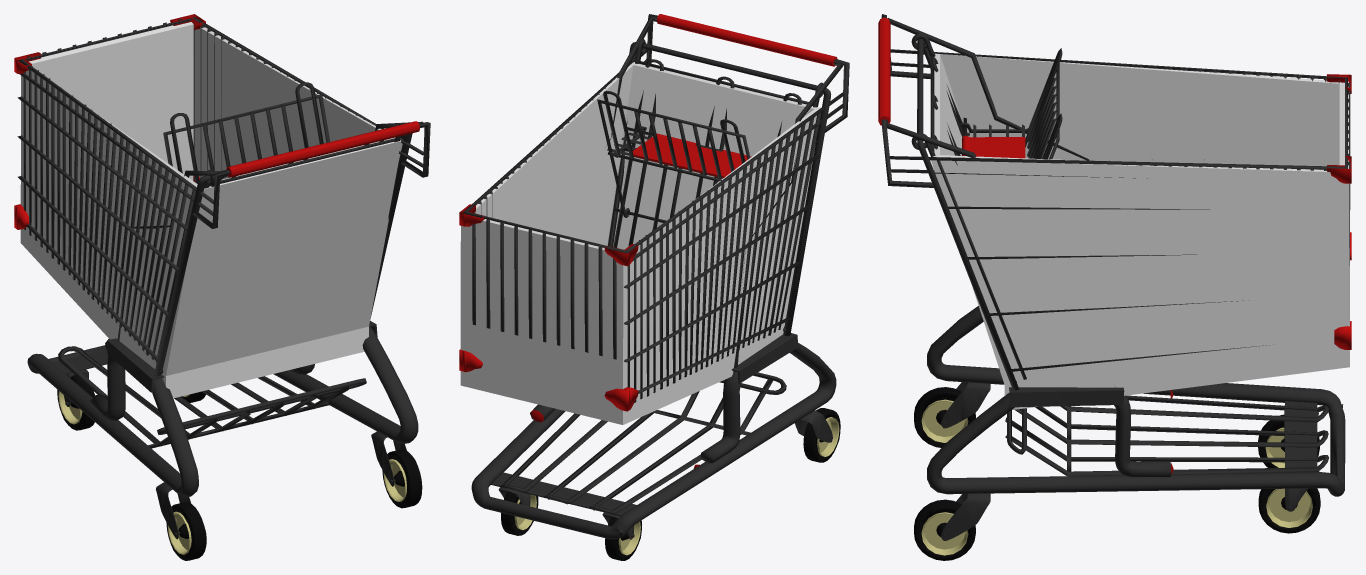
Rendered from wozek_plus_colider.FBX.
The picture shows the model from 3 angles, left to right: view 1: azimuth 30°, elevation 25°; view 2: azimuth 150°, elevation 25°; view 3: azimuth 270°, elevation 25°; orthographic projection. The views are drawn at different scales.
Parts seen in each view (by area): view 1: wozek_colider, cart, seatBack, Handle, Loft01, Loft05, Gate, Box01, Box05, uBumpers, Line01, Line06; view 2: wozek_colider, cart, seatBack, Gate, seat, Handle, lBumpers, Loft01, uBumpers, Box01, Loft04, Loft02; view 3: wozek_colider, cart, seatBack, Handle, Gate, Loft05, Box05, seat, Box01, Line05, Line06, Line01 (+3 smaller).
Boxes of the visible parts, x1,y1,x2,y2 form: wozek_colider: [20, 22, 402, 398]; cart: [17, 17, 430, 497]; seatBack: [163, 82, 330, 183]; Handle: [226, 121, 419, 177]; Loft01: [166, 502, 206, 560]; Loft05: [382, 449, 422, 508]; Gate: [204, 123, 406, 188]; Box01: [156, 482, 191, 539]; Box05: [371, 431, 406, 486]; uBumpers: [14, 14, 205, 73]; Line01: [167, 511, 191, 554]; Line06: [383, 459, 406, 501]; wozek_colider: [460, 62, 820, 424]; cart: [462, 14, 849, 539]; seatBack: [597, 91, 750, 217]; Gate: [607, 39, 823, 247]; seat: [629, 133, 751, 178]; Handle: [656, 14, 837, 66]; lBumpers: [459, 349, 638, 411]; Loft01: [803, 408, 840, 462]; uBumpers: [459, 204, 638, 266]; Box01: [794, 410, 832, 442]; Loft04: [501, 491, 538, 535]; Loft02: [605, 516, 641, 560]; wozek_colider: [930, 53, 1349, 409]; cart: [881, 14, 1350, 496]; seatBack: [1025, 48, 1062, 159]; Handle: [878, 17, 890, 125]; Gate: [911, 33, 966, 156]; Loft05: [914, 499, 975, 560]; Box05: [941, 493, 990, 540]; seat: [962, 135, 1025, 158]; Box01: [941, 382, 990, 428]; Line05: [1266, 488, 1312, 527]; Line06: [921, 512, 968, 555]; Line01: [921, 399, 968, 442].
Size of the model in its own units: 72.49 by 119 by 117.
